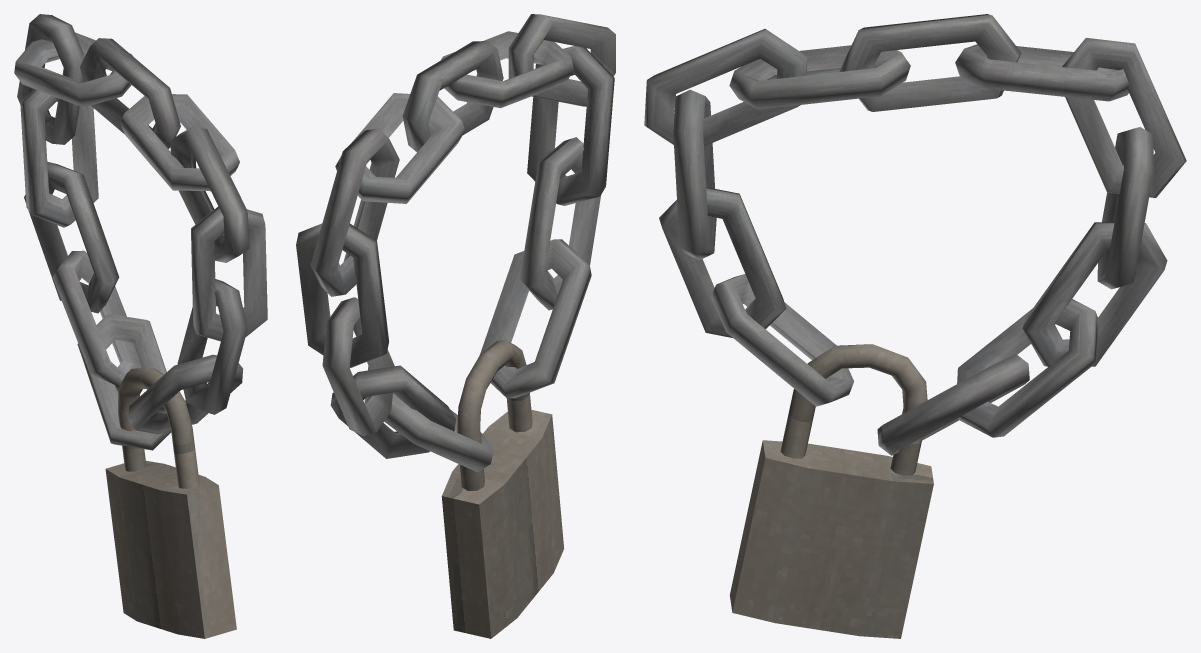
Rendered from padlock.fbx.
The picture shows the model from 3 angles, left to right: view 1: azimuth 30°, elevation 25°; view 2: azimuth 150°, elevation 25°; view 3: azimuth 270°, elevation 25°; orthographic projection. The views are drawn at different scales.
Visible parts, largest first — view 1: padlock; view 2: padlock; view 3: padlock.
Boxes of the visible parts, x1,y1,x2,y2 form: padlock: (14,14,267,638); padlock: (296,14,615,638); padlock: (644,14,1186,638).
Size of the model in its own units: 6.19 by 33.84 by 27.06.
